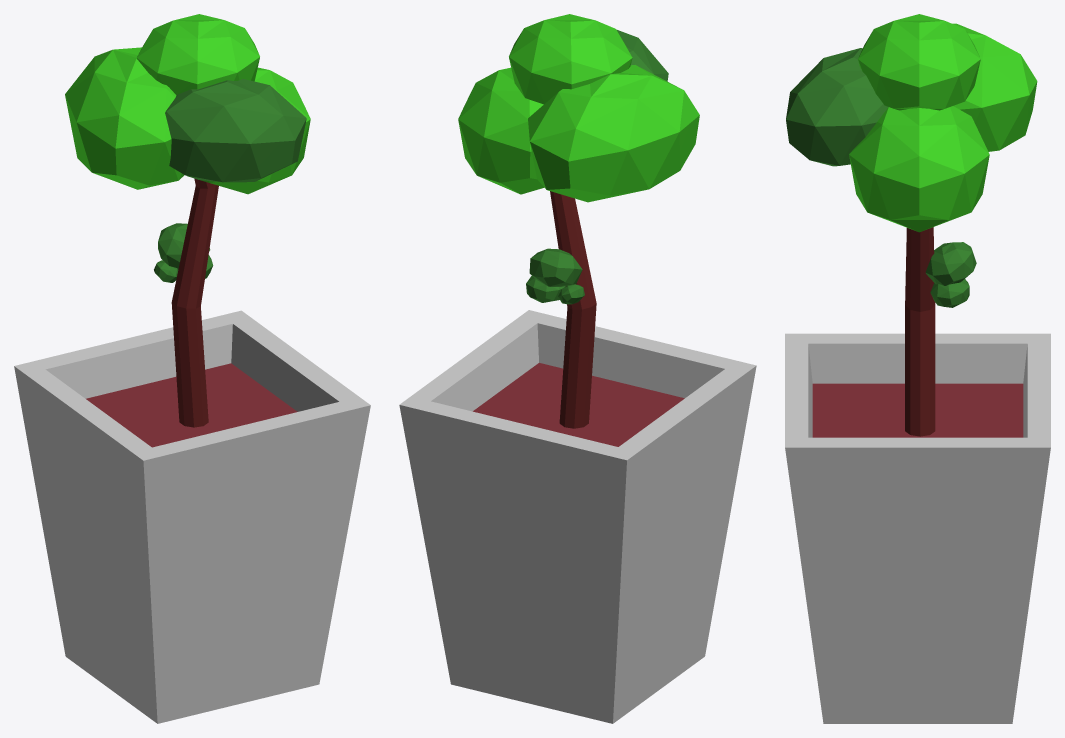
File: Plant.fbx
The picture shows the model from 3 angles, left to right: view 1: azimuth 30°, elevation 25°; view 2: azimuth 150°, elevation 25°; view 3: azimuth 270°, elevation 25°; orthographic projection. The views are drawn at different scales.
Visible parts, largest first — view 1: Plant.001; view 2: Plant.001; view 3: Plant.001.
Part boxes in pixels (<box>): Plant.001: <box>14,14,370,723</box>; Plant.001: <box>399,14,756,723</box>; Plant.001: <box>785,14,1050,723</box>.
Size of the model in its own units: 0.6352 by 1.73 by 0.6259.
